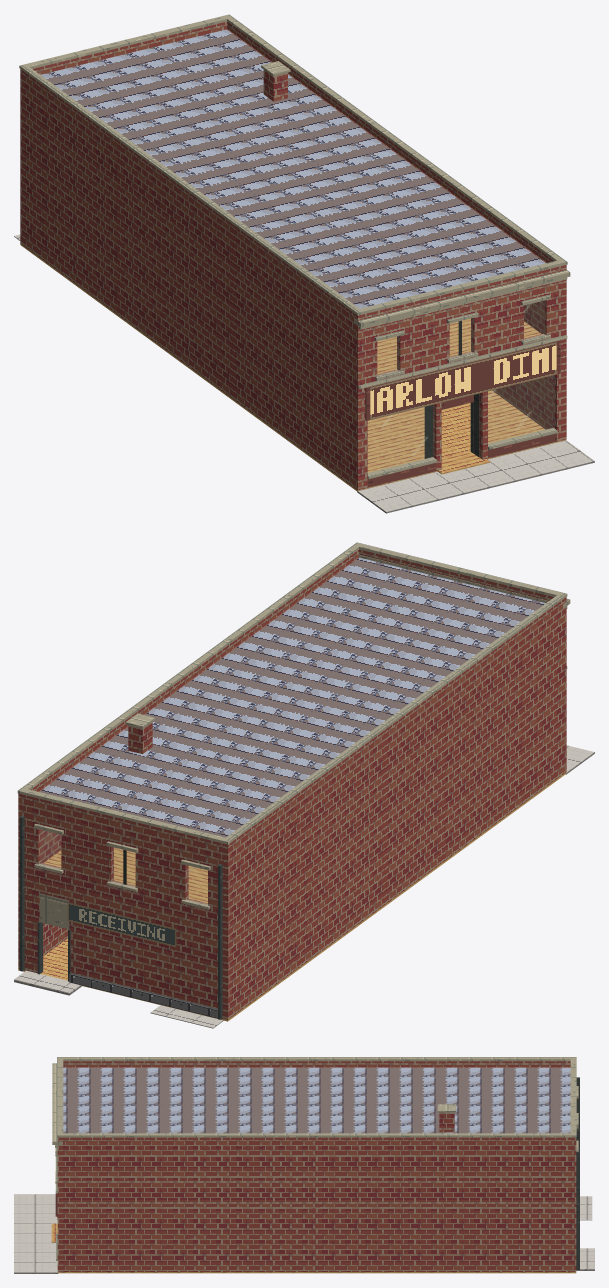
The model's file is marlow-1925-far.glb.
3 renders of one model, top to bottom at view 1: azimuth 30°, elevation 25°; view 2: azimuth 150°, elevation 25°; view 3: azimuth 270°, elevation 25°, orthographic. The views are drawn at different scales.
Visible parts, largest first — view 1: building_shell, roof_and_parapet, Shared street sidewalk, sign_name; view 2: building_shell, roof_and_parapet, sign_receiving, Rear receiving pad, lot; view 3: building_shell, roof_and_parapet, Shared street sidewalk, Rear receiving pad, lot.
Part boxes in pixels (x1=…): building_shell: x1=20, y1=29, x2=567, y2=491; roof_and_parapet: x1=19, y1=14, x2=570, y2=329; Shared street sidewalk: x1=357, y1=440, x2=594, y2=513; sign_name: x1=370, y1=342, x2=556, y2=419; building_shell: x1=18, y1=557, x2=567, y2=1021; roof_and_parapet: x1=17, y1=542, x2=570, y2=854; sign_receiving: x1=67, y1=902, x2=176, y2=947; Rear receiving pad: x1=14, y1=970, x2=81, y2=995; lot: x1=150, y1=1005, x2=223, y2=1028; building_shell: x1=51, y1=1067, x2=579, y2=1273; roof_and_parapet: x1=52, y1=1057, x2=576, y2=1147; Shared street sidewalk: x1=14, y1=1194, x2=58, y2=1273; Rear receiving pad: x1=576, y1=1248, x2=594, y2=1270; lot: x1=580, y1=1196, x2=592, y2=1220.
Size of what is drawn, in the model's own units: 10.05 by 9.06 by 31.36.
10 materials, 10 textured.
